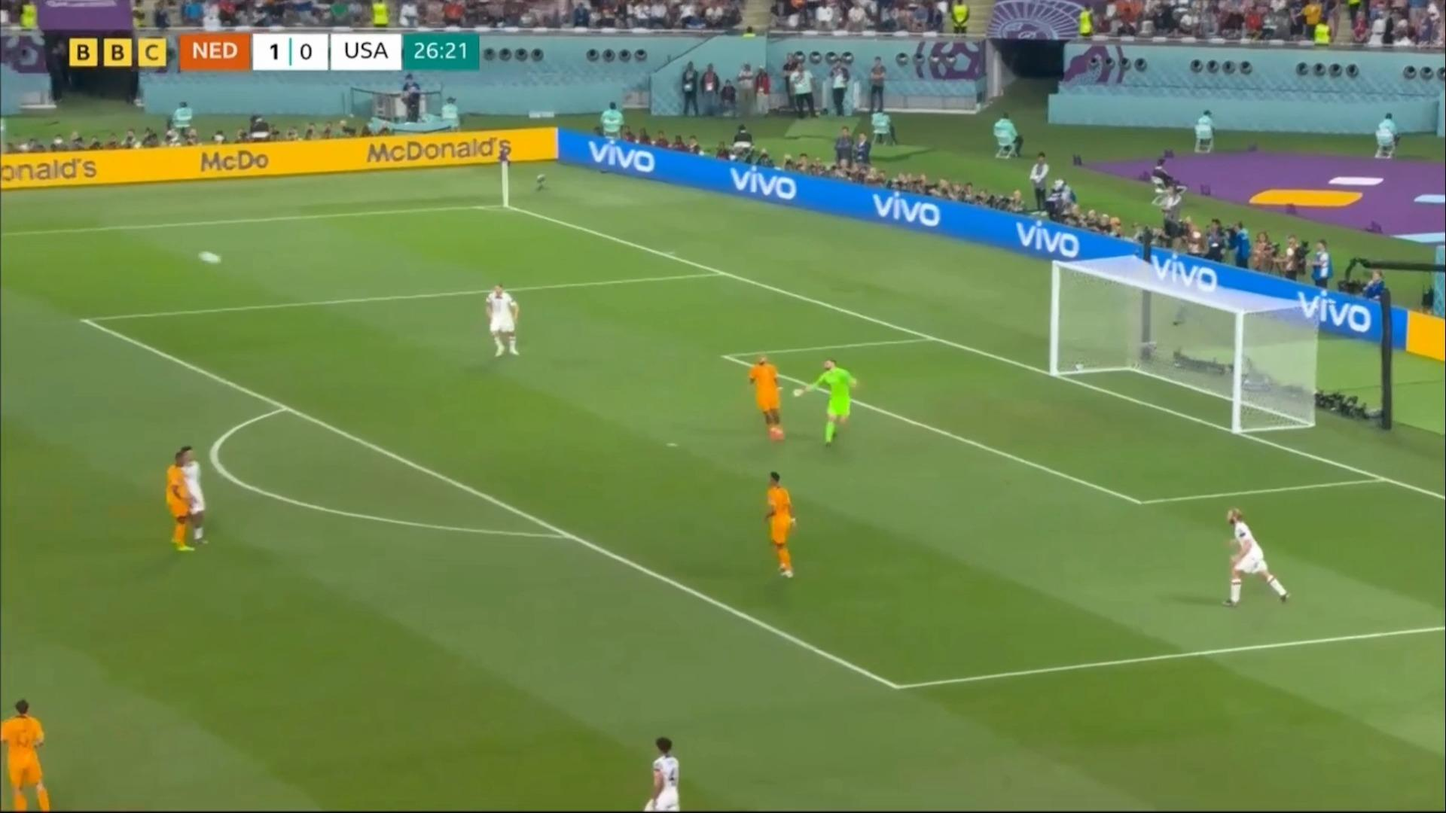Ball: (200, 248, 219, 266)
Player: (1222, 503, 1291, 611), (2, 699, 64, 812), (755, 467, 806, 581), (794, 359, 857, 447), (627, 733, 694, 813), (739, 352, 792, 446), (480, 279, 529, 363), (168, 456, 199, 555), (180, 442, 208, 543), (1311, 239, 1333, 292)
